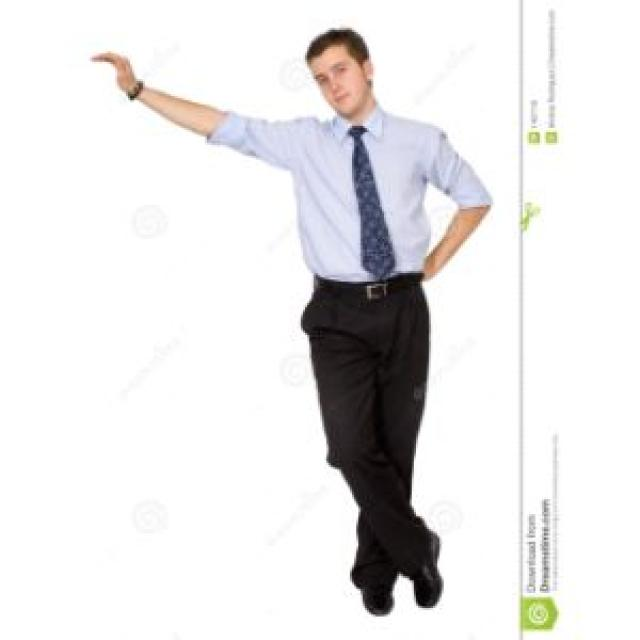adult: (90, 11, 497, 629)
